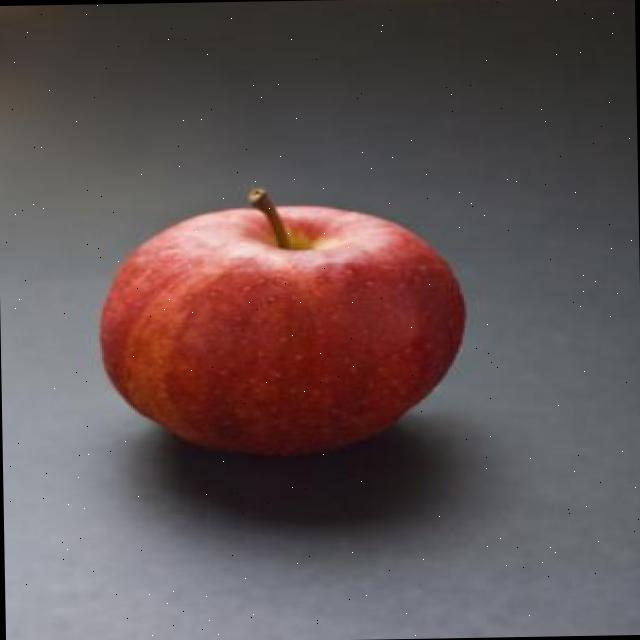Apel: (94, 182, 468, 460)
